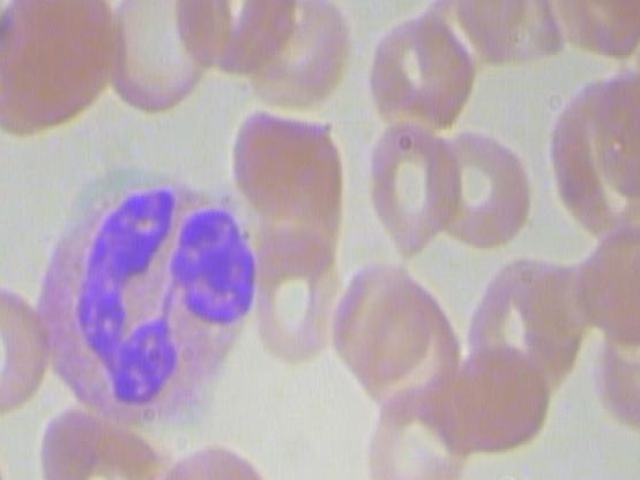RBC: (365, 7, 488, 136), (251, 214, 349, 369), (248, 0, 371, 116), (362, 123, 464, 257), (432, 123, 533, 257), (364, 383, 478, 480), (167, 0, 301, 74), (0, 271, 54, 423), (158, 428, 272, 480)
WBC: (20, 165, 279, 424)
